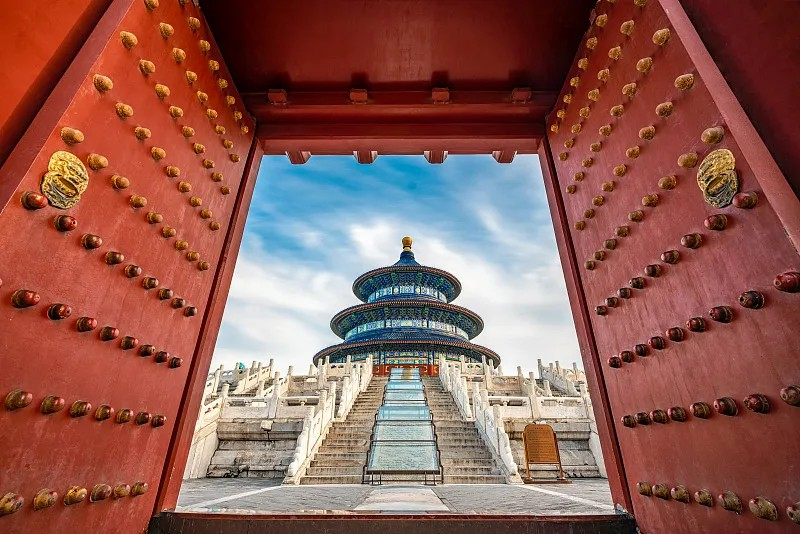Heaven: (312, 236, 500, 379)
